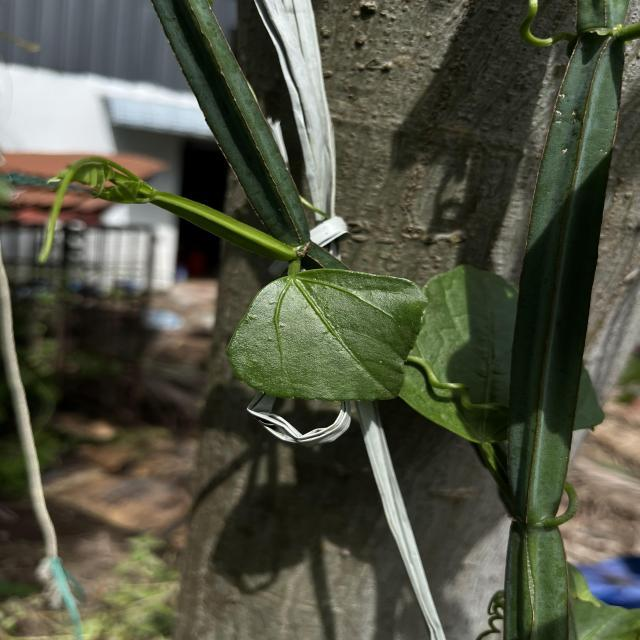Cissus quadrangularis: (224, 266, 432, 405)
